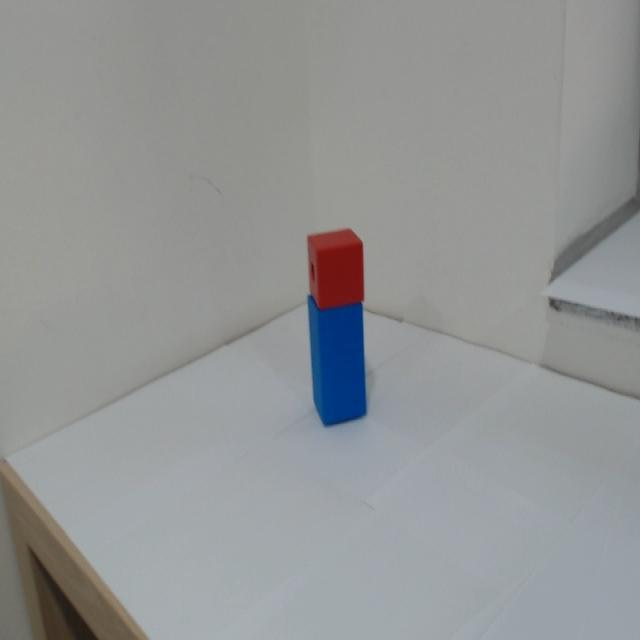cube: (301, 220, 377, 314)
